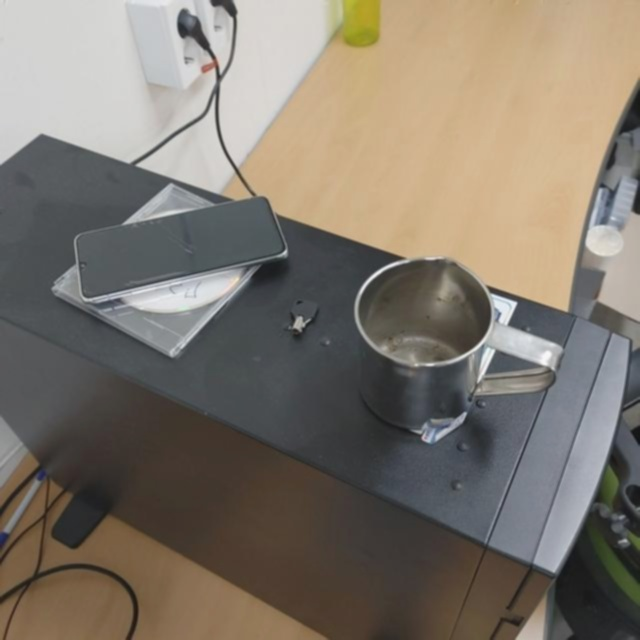cup: (352, 254, 569, 433)
phone: (74, 195, 290, 305)
